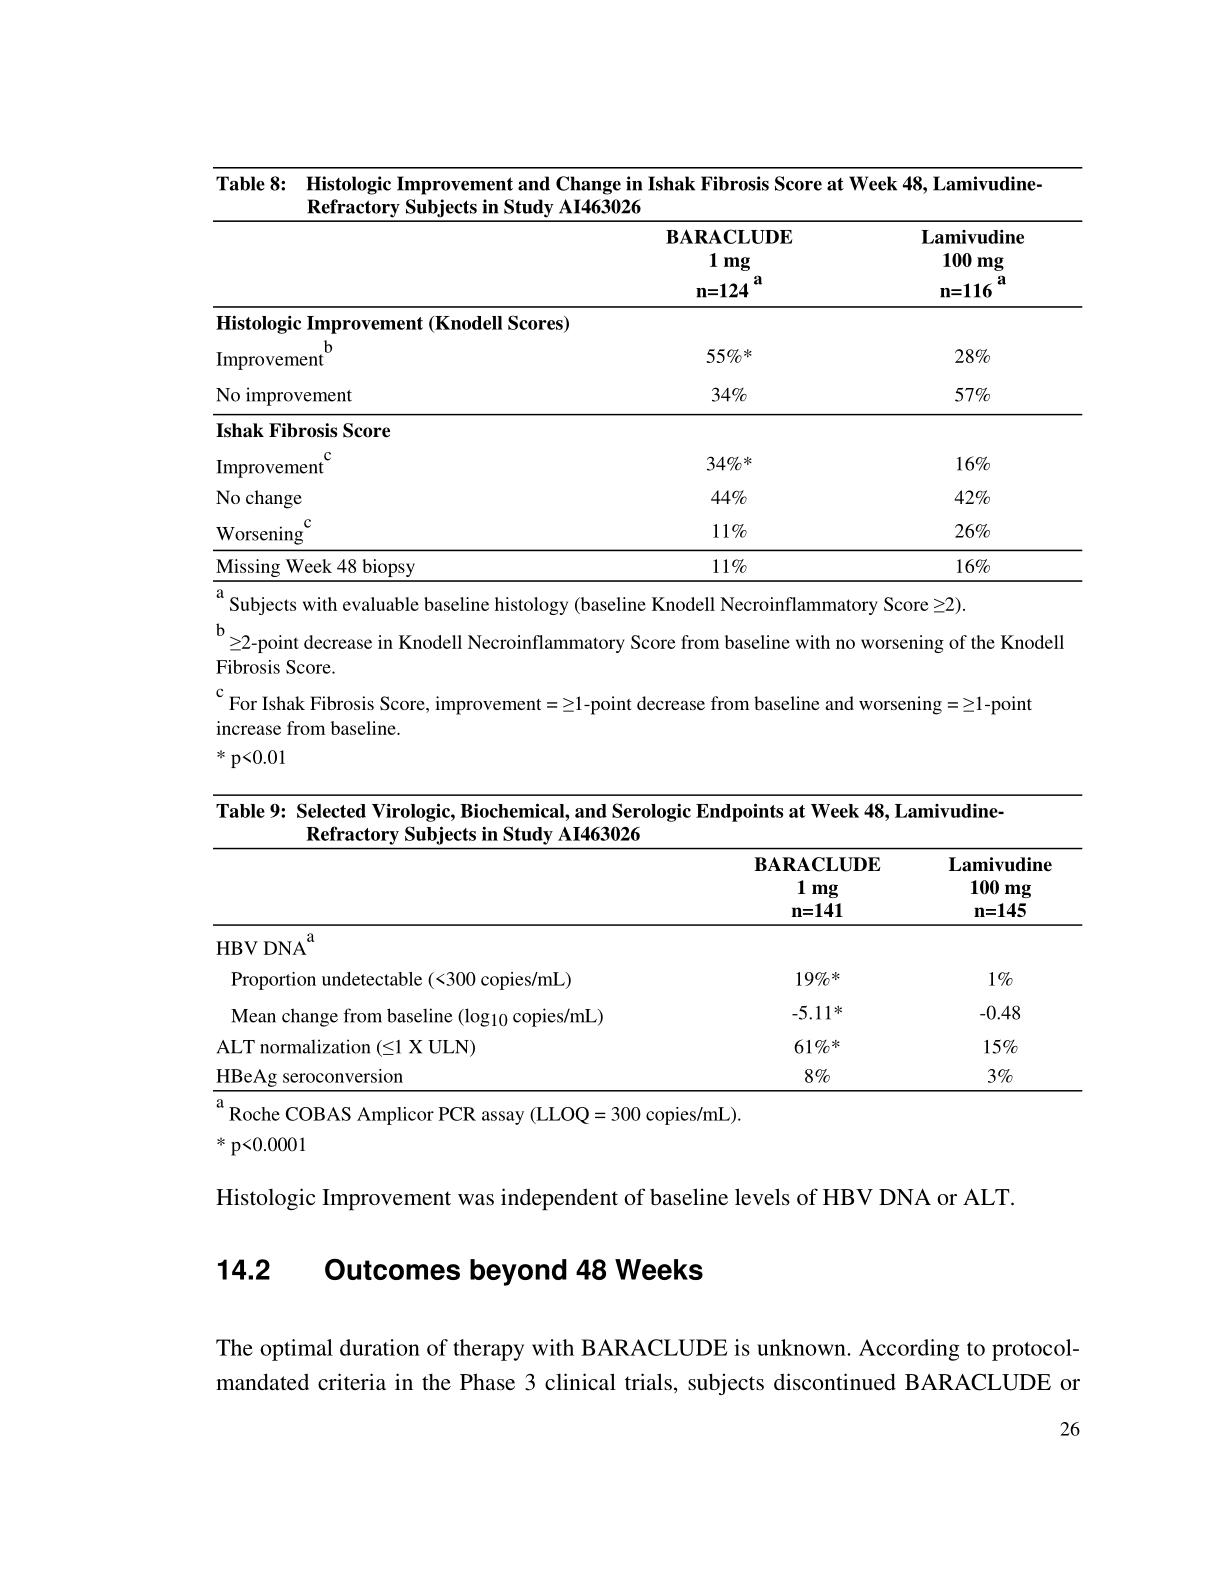partial_lined_merged_cells: (213, 166, 1083, 582), (212, 795, 1084, 1093)
